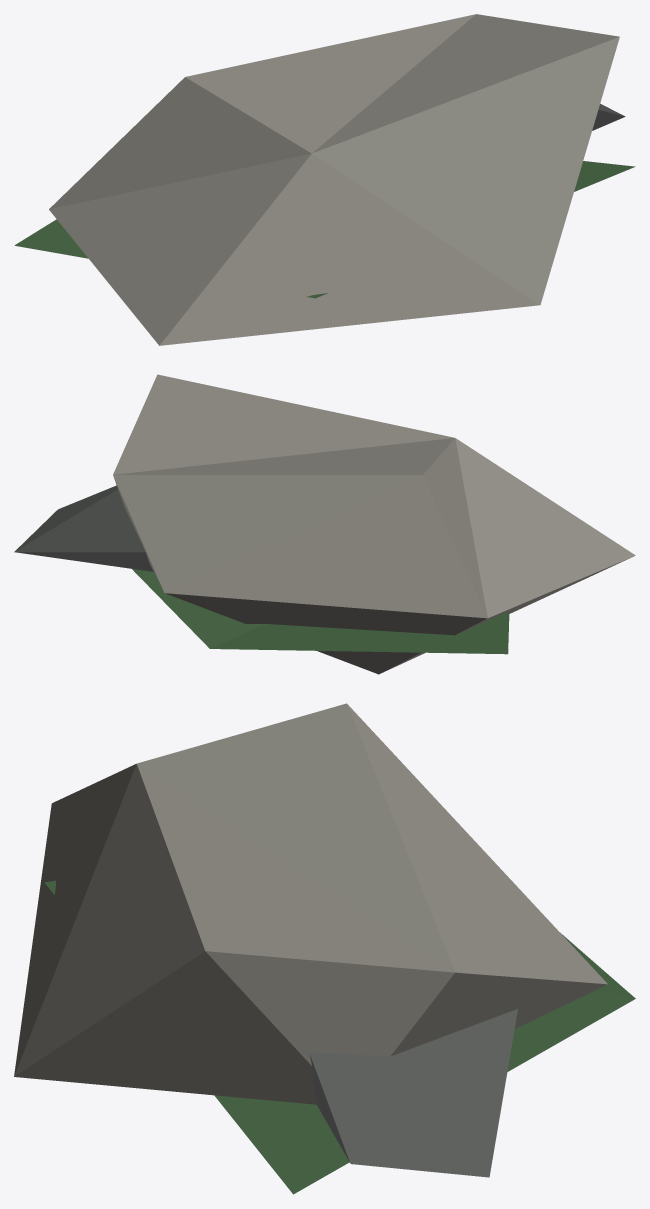
File: rock_3_lod2.glb
3 views of the same model, one above another, from view 1: azimuth 30°, elevation 25°; view 2: azimuth 150°, elevation 25°; view 3: azimuth 270°, elevation 25° (orthographic). The views are drawn at different scales.
Visible parts, largest first — view 1: rock_3_lod2; view 2: rock_3_lod2; view 3: rock_3_lod2.
Part boxes in pixels (left/top/right/bottom): rock_3_lod2: left=14, top=14, right=635, bottom=345; rock_3_lod2: left=14, top=374, right=635, bottom=674; rock_3_lod2: left=14, top=703, right=635, bottom=1194.
Bounding box in the file's own units: 2.6 × 0.9684 × 1.9.
